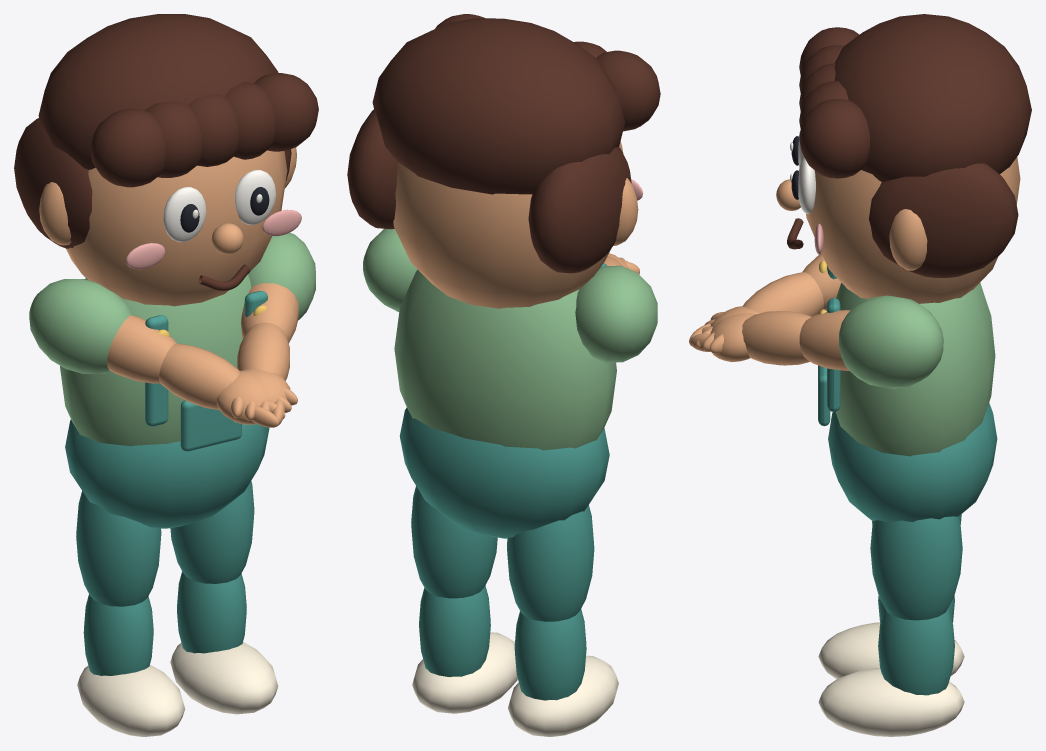
Rendered from daddy-clap.glb.
3 views of the same model, side by side, from view 1: azimuth 30°, elevation 25°; view 2: azimuth 150°, elevation 25°; view 3: azimuth 270°, elevation 25° (orthographic). The views are drawn at different scales.
Parts seen in each view (by area): view 1: hair cap, clay head, overalls, soft shirt, shirt sleeve, trouser leg, little shoe, little shoe.001, bob hair, trouser leg.001, fringe, lower leg (+21 smaller); view 2: hair cap, soft shirt, clay head, overalls, bob hair, trouser leg, shirt sleeve, trouser leg.001, lower leg, lower leg.001, little shoe, little shoe.001 (+4 smaller); view 3: hair cap, soft shirt, bob hair.001, overalls, clay head, trouser leg.001, shirt sleeve.001, little shoe.001, lower leg.001, fringe.004, forearm.001, little shoe (+12 smaller).
Part boxes in pixels (<box>): hair cap: <box>38,14,278,169</box>; clay head: <box>66,150,287,306</box>; overalls: <box>65,419,269,528</box>; soft shirt: <box>60,274,251,446</box>; shirt sleeve: <box>29,279,132,373</box>; trouser leg: <box>76,491,161,606</box>; little shoe: <box>77,665,184,736</box>; little shoe.001: <box>170,642,278,714</box>; bob hair: <box>14,118,92,248</box>; trouser leg.001: <box>170,481,254,583</box>; fringe: <box>90,108,165,187</box>; lower leg: <box>83,594,153,675</box>; hair cap: <box>372,18,624,194</box>; soft shirt: <box>394,269,616,450</box>; clay head: <box>393,141,623,308</box>; overalls: <box>399,407,609,538</box>; bob hair: <box>528,147,631,273</box>; trouser leg: <box>507,505,594,621</box>; shirt sleeve: <box>575,265,657,362</box>; trouser leg.001: <box>411,486,497,598</box>; lower leg: <box>514,609,586,700</box>; lower leg.001: <box>419,585,490,677</box>; little shoe: <box>508,655,618,736</box>; little shoe.001: <box>412,632,517,713</box>; hair cap: <box>834,14,1031,181</box>; soft shirt: <box>835,283,995,456</box>; bob hair.001: <box>869,163,1018,277</box>; overalls: <box>828,403,997,522</box>; clay head: <box>804,157,1020,303</box>; trouser leg.001: <box>870,516,962,620</box>; shirt sleeve.001: <box>839,295,943,388</box>; little shoe.001: <box>818,668,964,736</box>; lower leg.001: <box>878,608,954,695</box>; fringe.004: <box>799,98,869,178</box>; forearm.001: <box>742,311,811,365</box>; little shoe: <box>818,622,964,678</box>.
Size of the model in its own units: 0.9029 by 2.14 by 0.9805.
